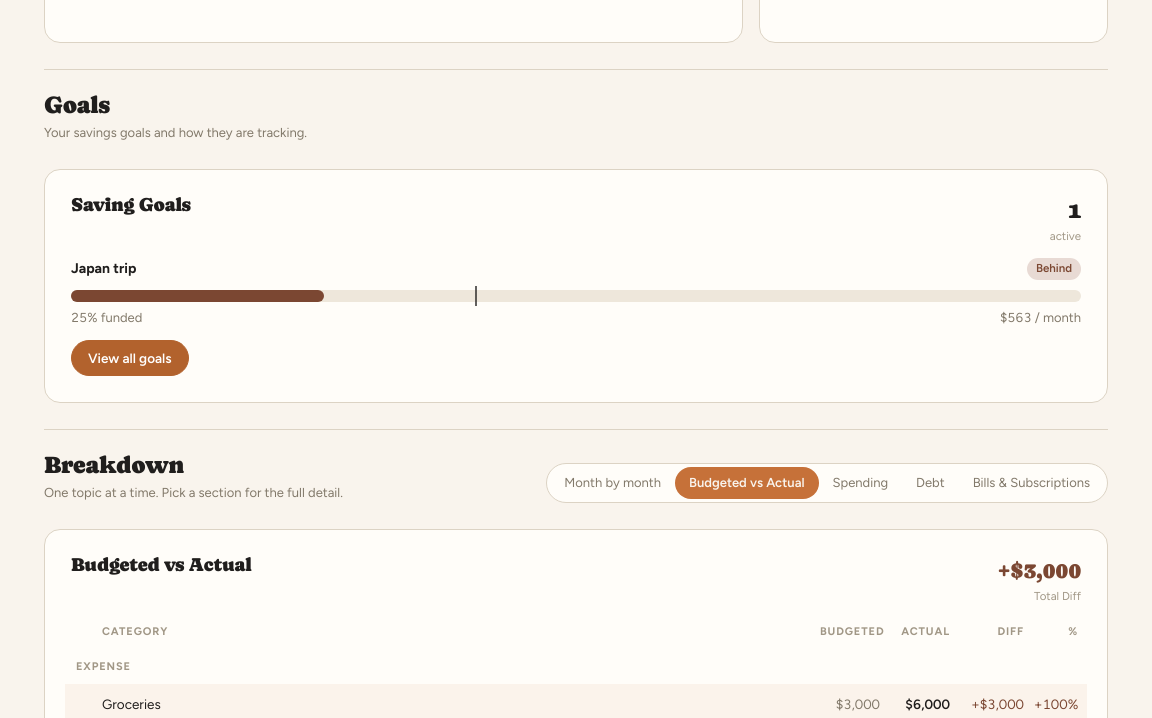
Scenario: App › Goals tile › 'View all goals' opens the Goals tab
(page scrolled)
Click the button "View all goals" at (130, 358), box left=71, top=340, right=189, bottom=376
(page scrolled)
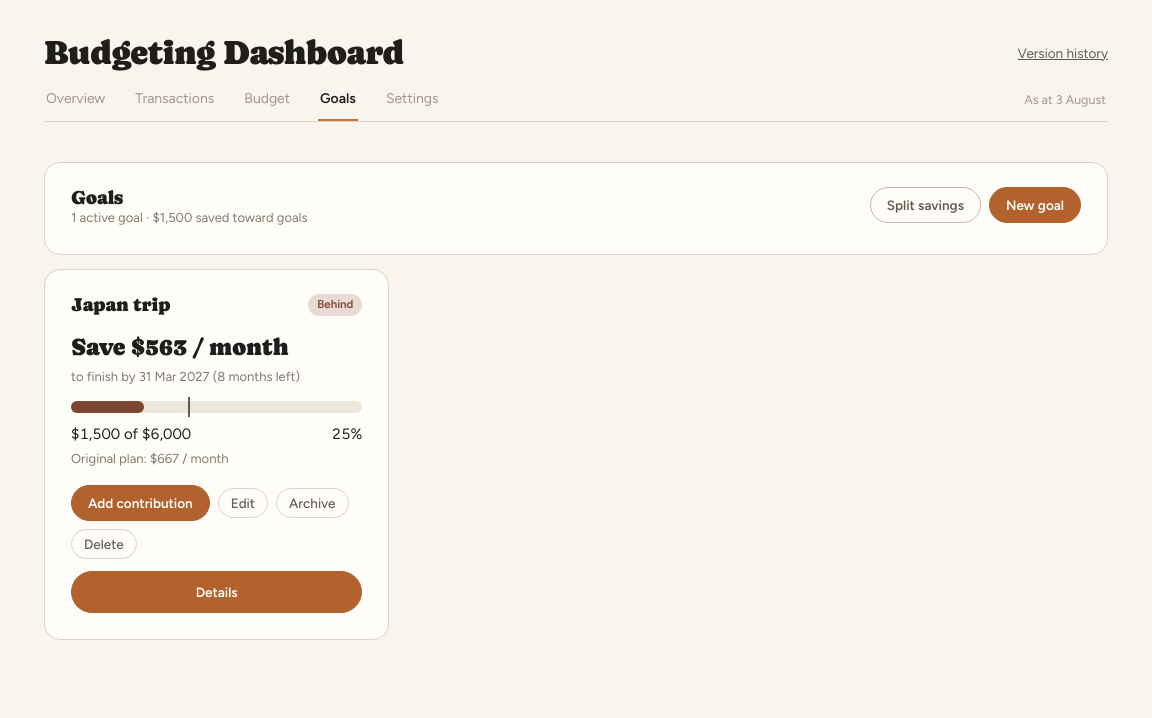
expect the navigation bar is shown: met, box left=44, top=88, right=1108, bottom=122
expect the button "View all goals" is gone: met
